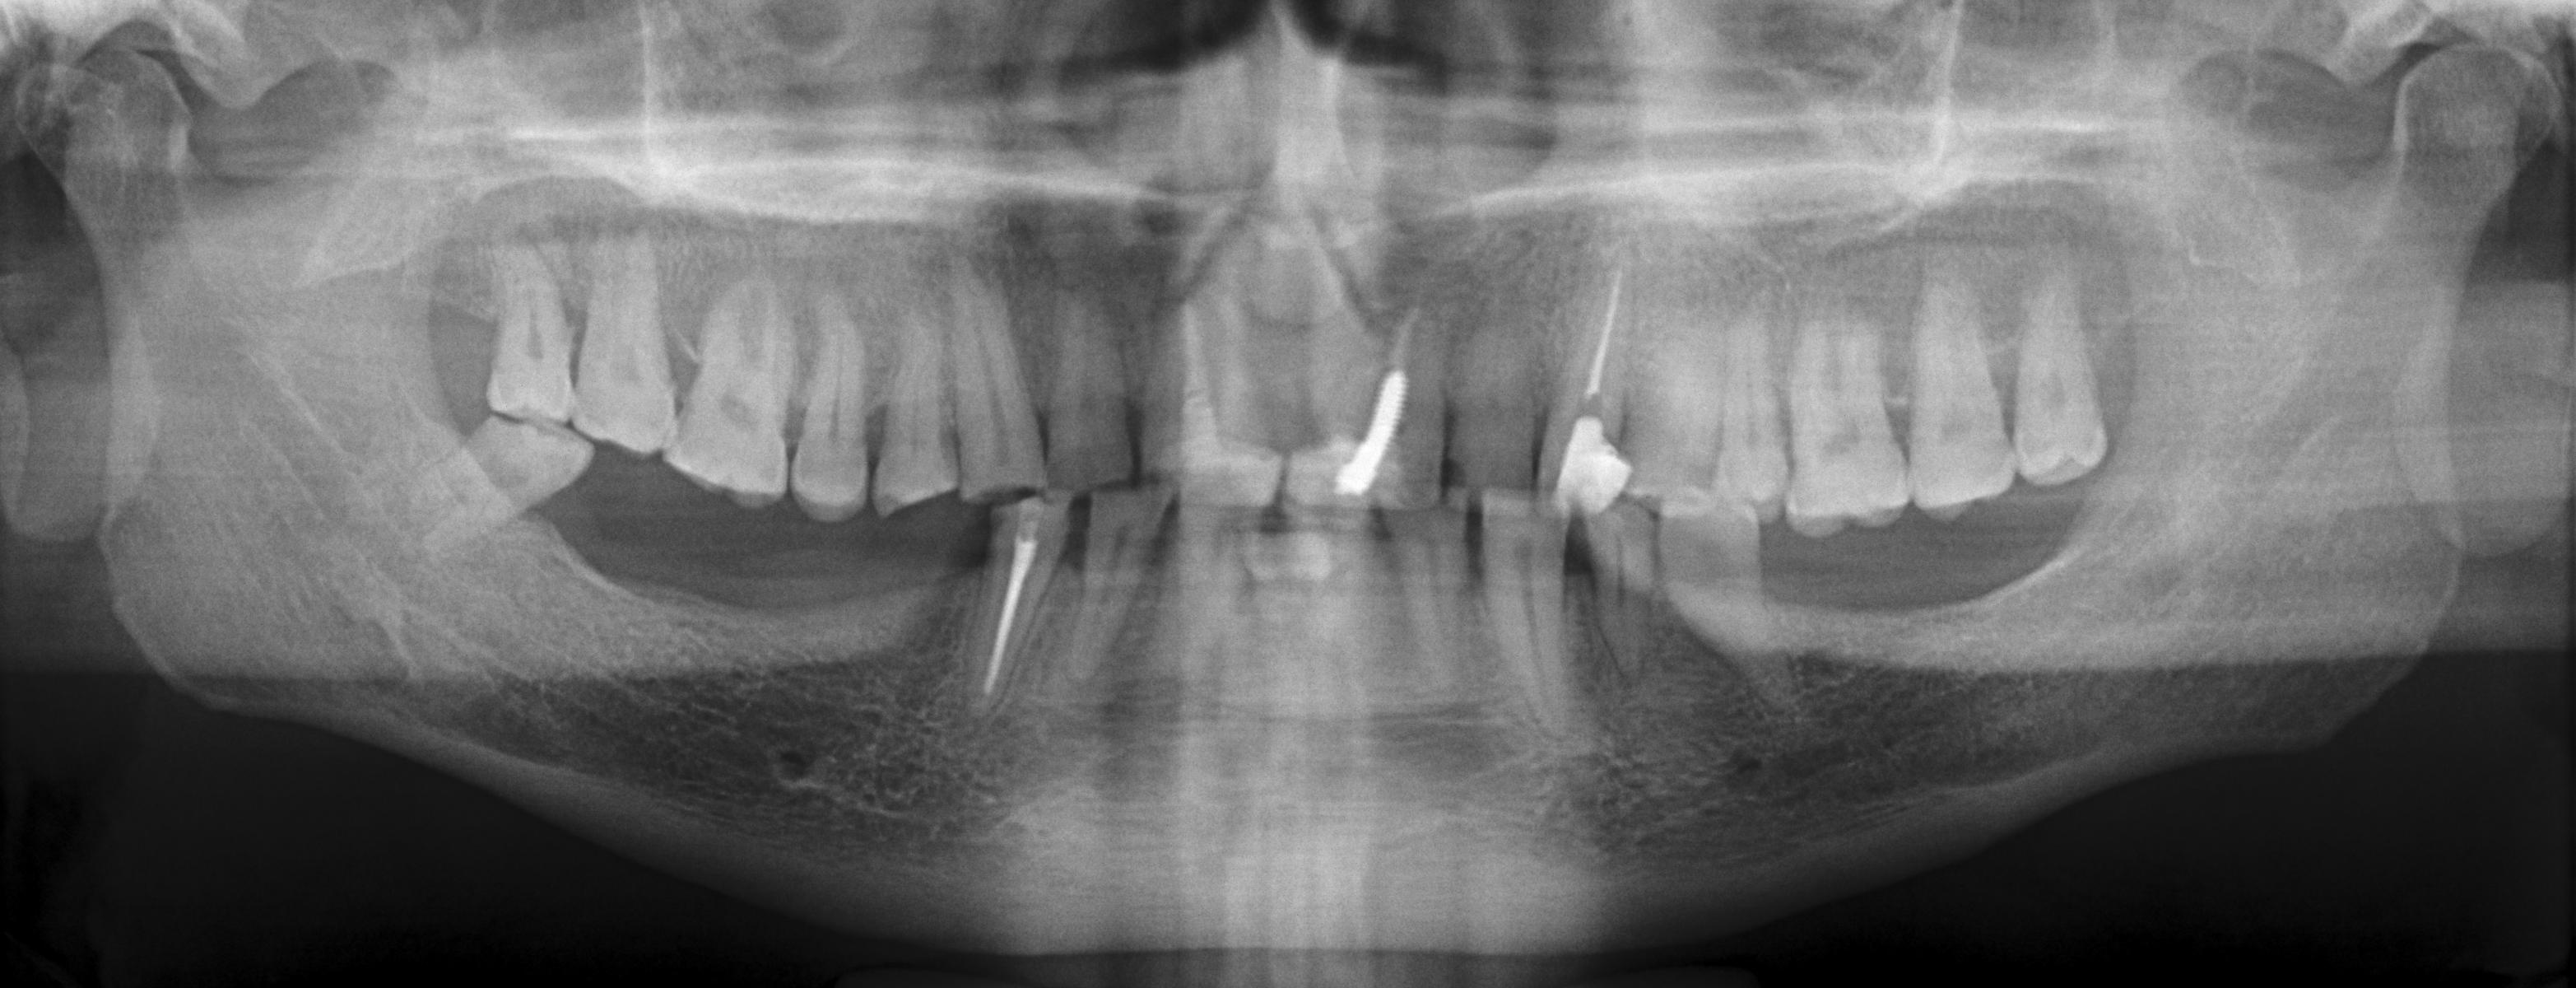Çürük: (1549, 411, 1628, 521)
